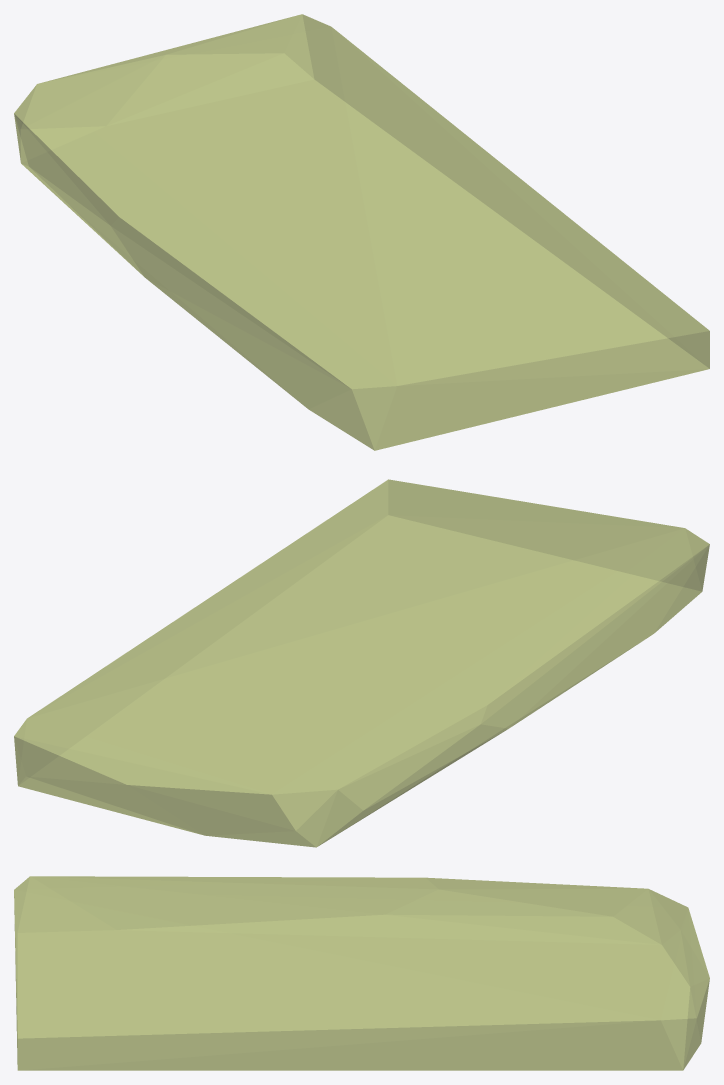
The picture shows the model from 3 angles, top to bottom: view 1: azimuth 30°, elevation 25°; view 2: azimuth 150°, elevation 25°; view 3: azimuth 270°, elevation 25°; orthographic projection. The views are drawn at different scales.
Parts seen in each view (by area): view 1: Shape_IndexedFaceSet.002_Shape_IndexedFaceSet.428; view 2: Shape_IndexedFaceSet.002_Shape_IndexedFaceSet.428; view 3: Shape_IndexedFaceSet.002_Shape_IndexedFaceSet.428.
Part boxes in pixels (x1=…): Shape_IndexedFaceSet.002_Shape_IndexedFaceSet.428: x1=14, y1=14, x2=709, y2=450; Shape_IndexedFaceSet.002_Shape_IndexedFaceSet.428: x1=14, y1=479, x2=709, y2=847; Shape_IndexedFaceSet.002_Shape_IndexedFaceSet.428: x1=14, y1=876, x2=709, y2=1070.
Size of the model in its own units: 0.3598 by 0.0598 by 0.7272.
